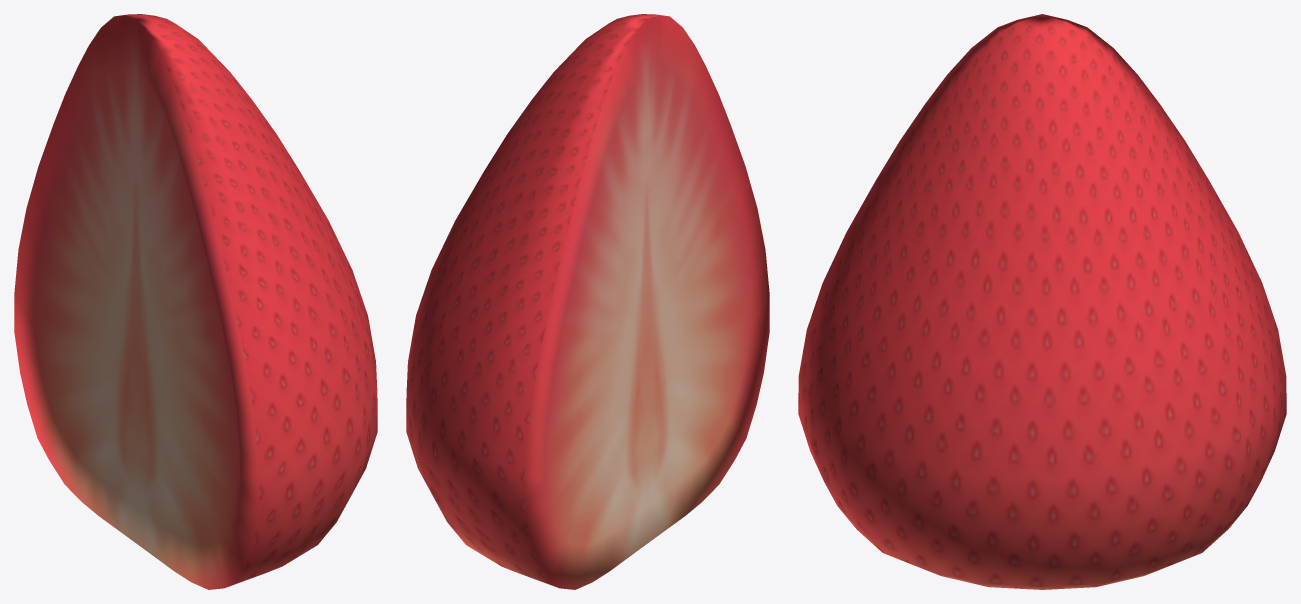
Rendered from Strawberry_side.fbx.
3 views of the same model, side by side, from view 1: azimuth 30°, elevation 25°; view 2: azimuth 150°, elevation 25°; view 3: azimuth 270°, elevation 25° (orthographic).
Parts seen in each view (by area): view 1: wagiri_yoko; view 2: wagiri_yoko; view 3: wagiri_yoko.
Boxes of the visible parts, <box> form: wagiri_yoko: <box>14,14,377,589</box>; wagiri_yoko: <box>406,14,769,589</box>; wagiri_yoko: <box>798,14,1286,589</box>.
Size of the model in its own units: 50.7 by 121 by 102.
1 material, 1 textured.
